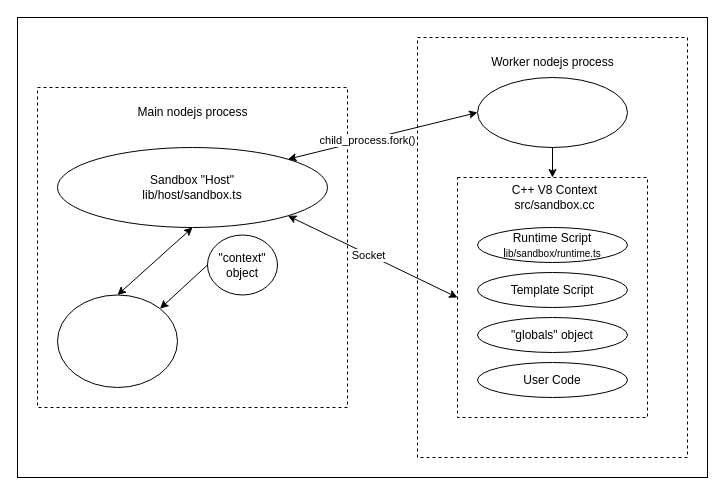
This 725x495 diagram has some shape labels left out. Here are the shapes that lost their labels. From the top down, the centre of each, then its label:
At (552,112): "Worker lib/sandbox/worker.ts".
At (117,341): "Host Functions define() and defineAsync()".
